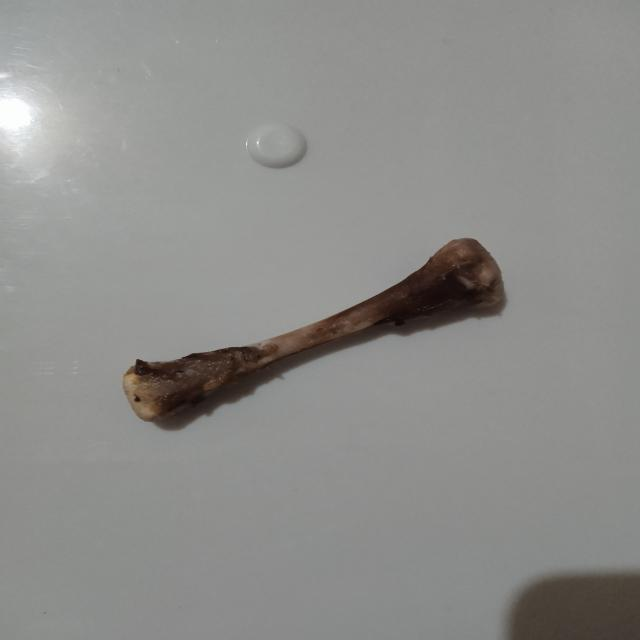bone: (117, 227, 514, 428)
